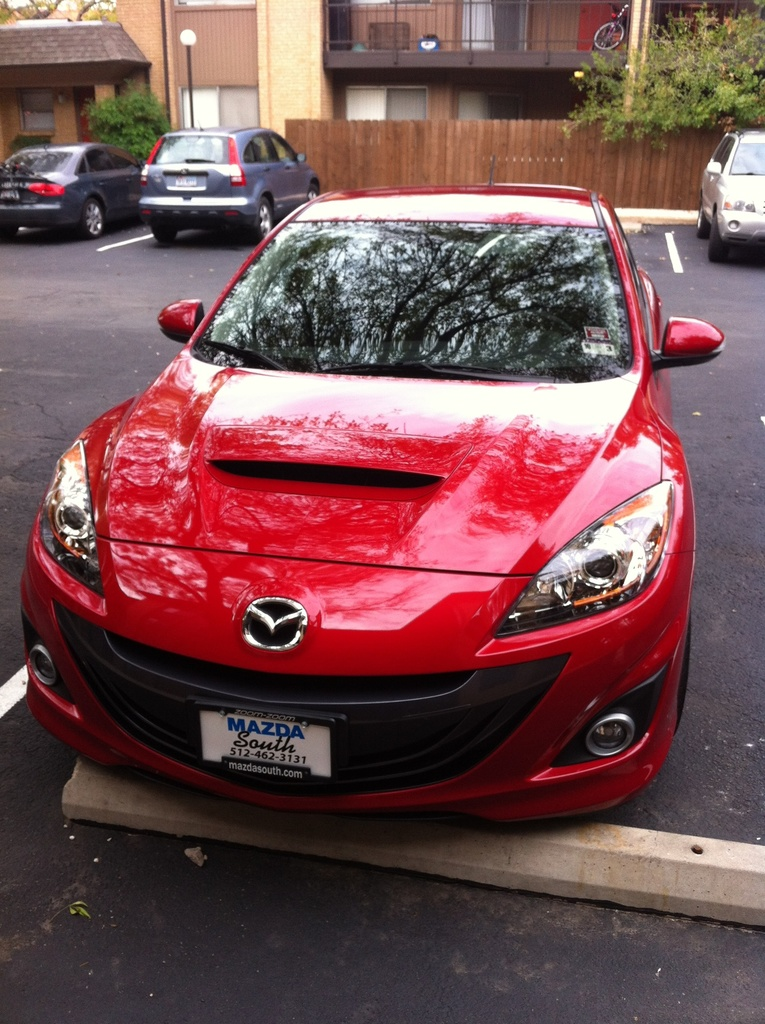Tree: (557, 0, 765, 150)
